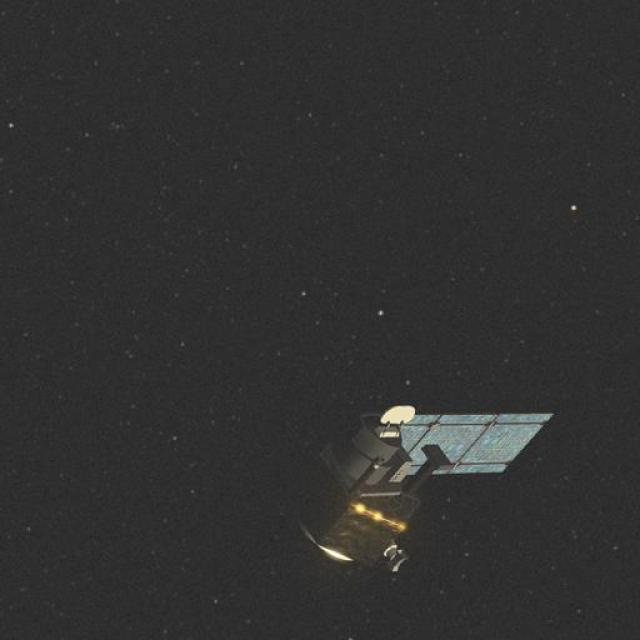earth_observation_sat_1: (276, 386, 509, 576)
